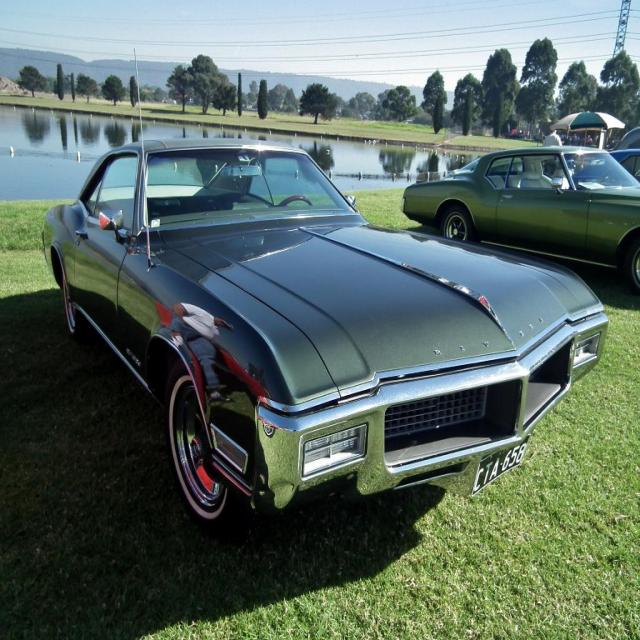car: (41, 49, 607, 537)
